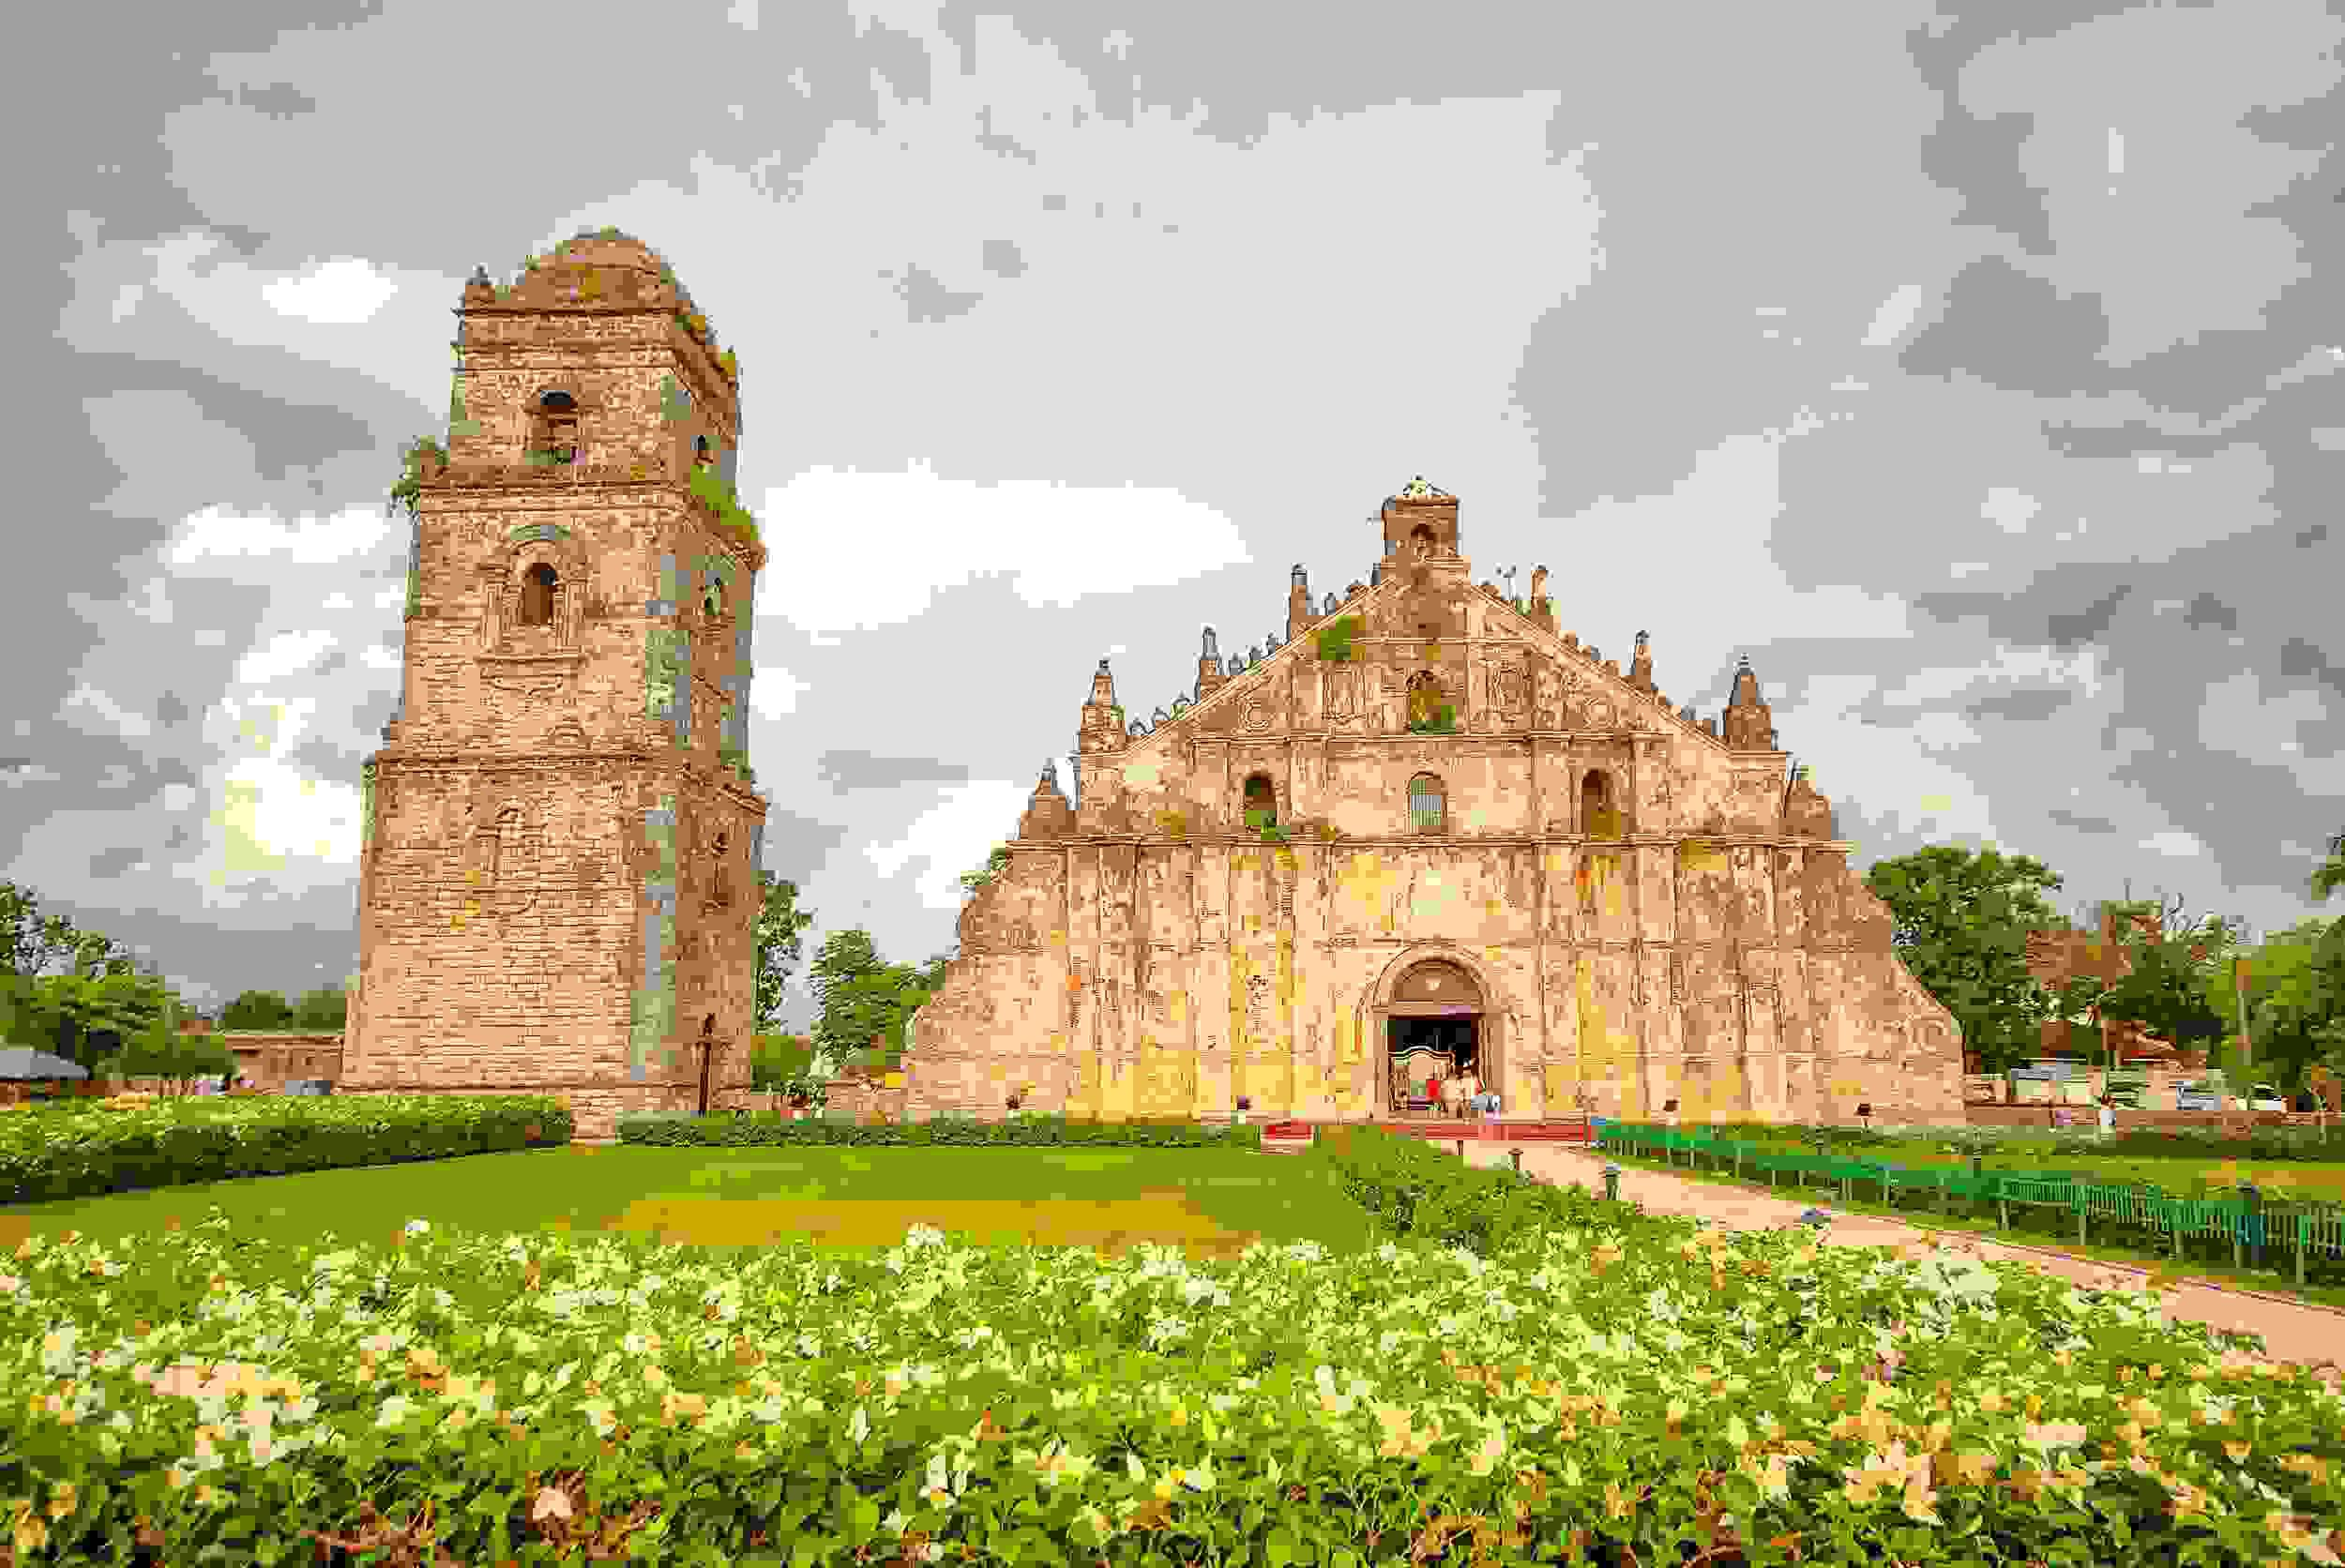Environmental Damage: (381, 441, 467, 506), (684, 462, 765, 523), (1239, 807, 1298, 861), (1314, 621, 1365, 675)
Paoay Church: (345, 206, 1970, 1139)
